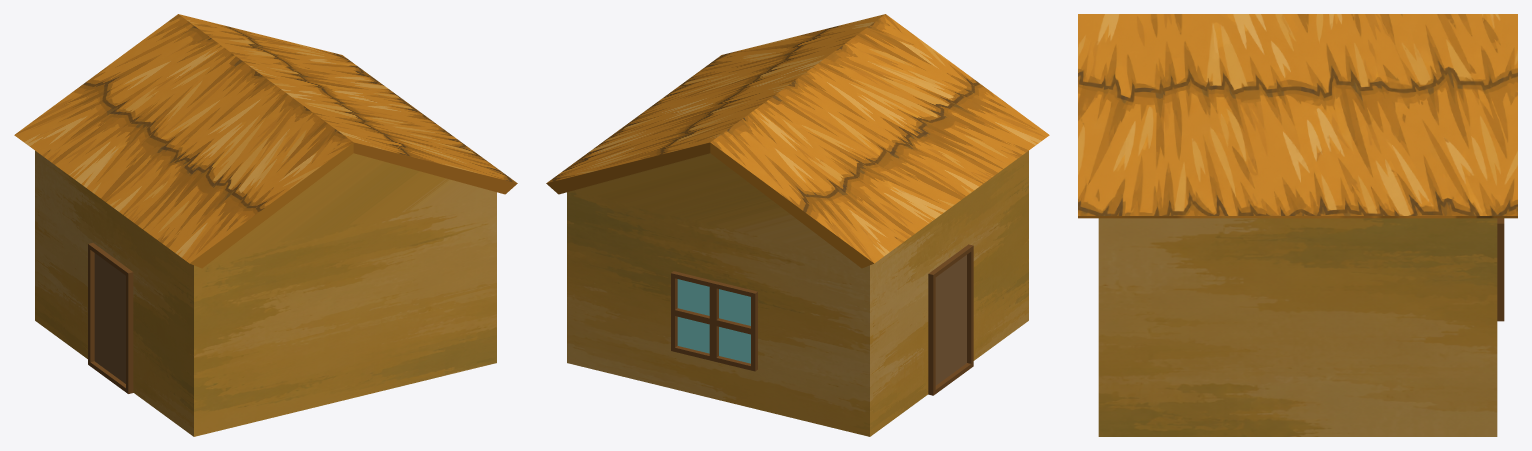
Rendered from CasaPlaya1.glb.
3 renders of one model, left to right at view 1: azimuth 30°, elevation 25°; view 2: azimuth 150°, elevation 25°; view 3: azimuth 270°, elevation 25°, orthographic. The views are drawn at different scales.
Visible parts, largest first — view 1: Cube, Cube.001, puerta.001, puerta; view 2: Cube, Cube.001, ventana, puerta.001, puerta; view 3: Cube.001, Cube, ventana.
Boxes of the visible parts, x1,y1,x2,y2 form: Cube: (35,150,496,436); Cube.001: (14,14,517,268); puerta.001: (94,253,125,383); puerta: (88,243,133,393); Cube: (567,150,1028,436); Cube.001: (546,14,1049,268); ventana: (671,271,757,371); puerta.001: (935,255,966,385); puerta: (928,244,973,395); Cube.001: (1078,14,1517,218); Cube: (1098,218,1497,436); ventana: (1497,218,1504,321).
Bounding box in the file's own units: 4.58 × 3.52 × 4.24.
Materials: 6 (2 with a texture image).
